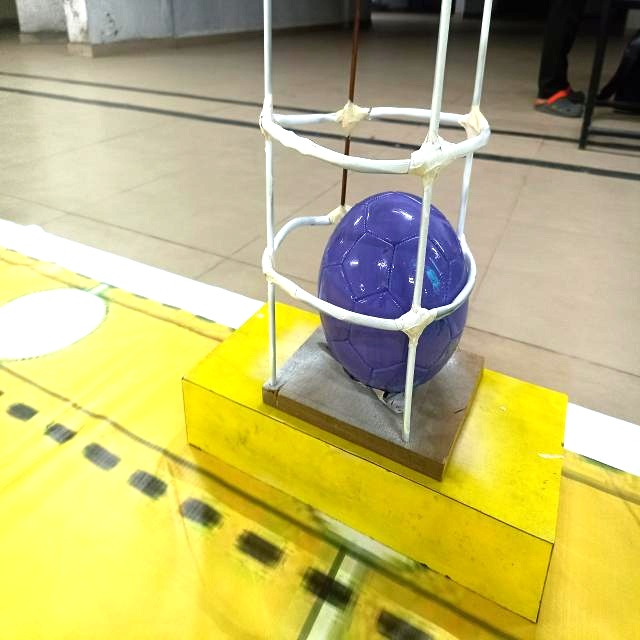purple_ball: (310, 178, 484, 404)
silo: (256, 0, 493, 460)
